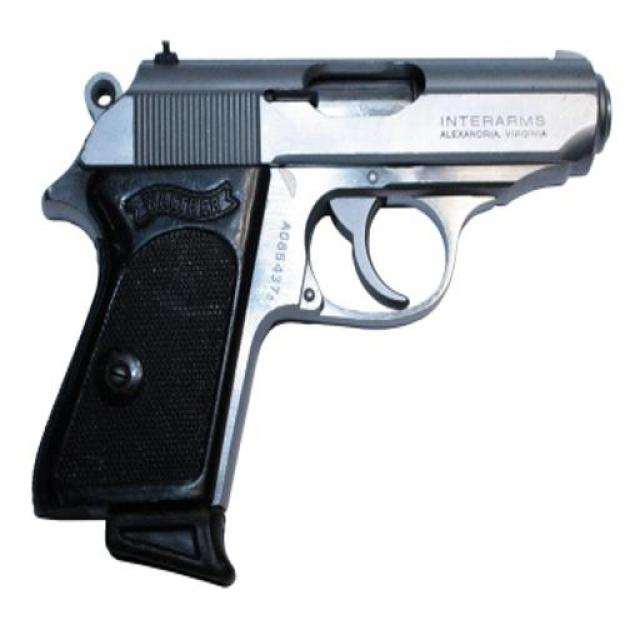pistol: (26, 45, 618, 585)
